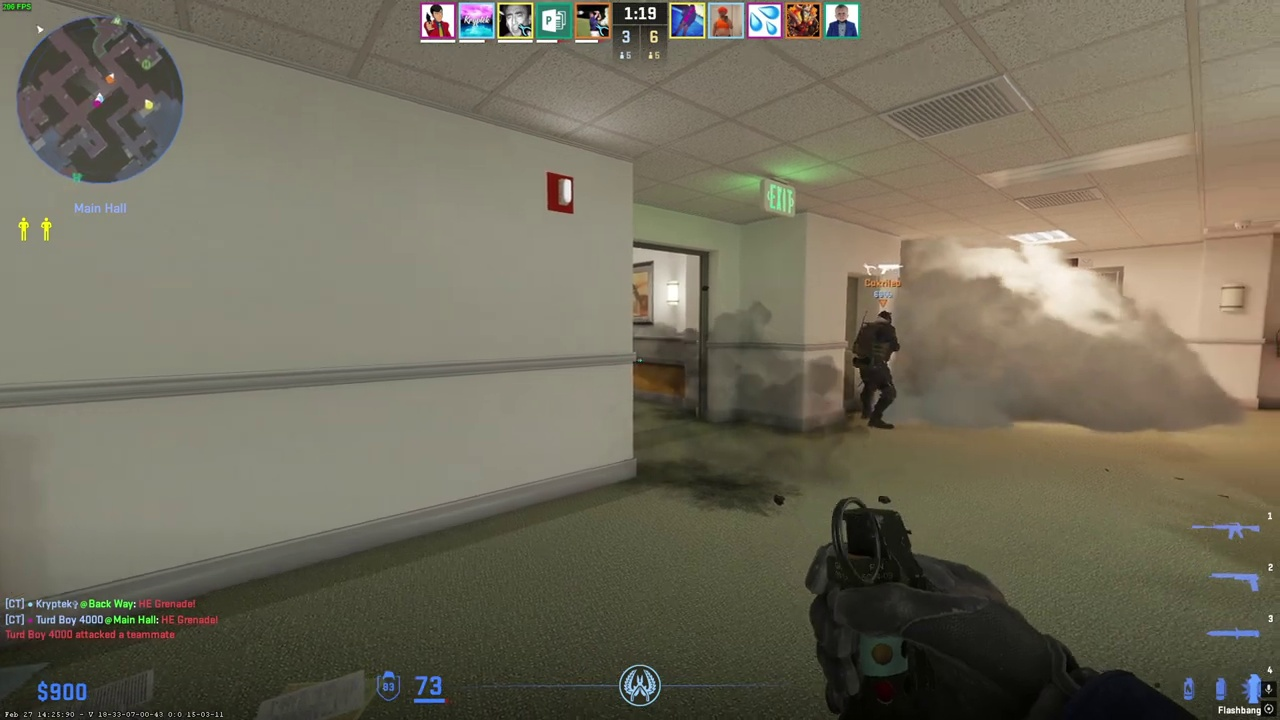CT: (852, 310, 901, 429)
